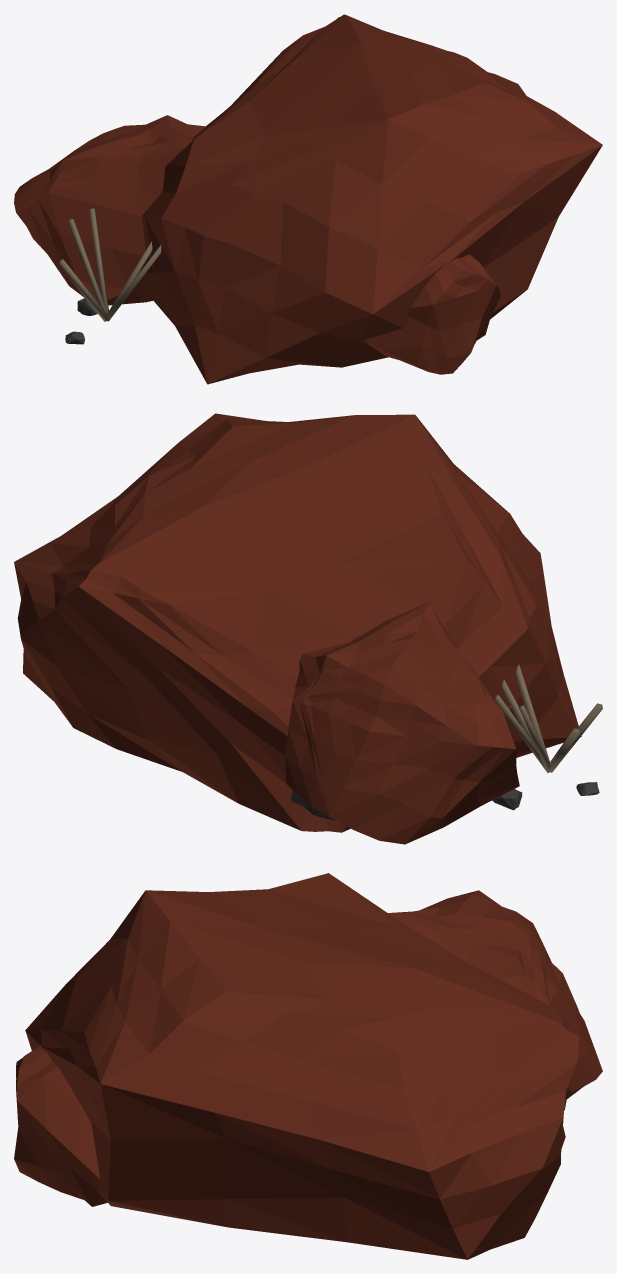
Rendered from cover_rock_8.glb.
3 views of the same model, one above another, from view 1: azimuth 30°, elevation 25°; view 2: azimuth 150°, elevation 25°; view 3: azimuth 270°, elevation 25° (orthographic). The views are drawn at different scales.
Parts seen in each view (by area): view 1: rock_0, rock_1, rock_3, weed_3, weed_4, weed_1, weed_2; view 2: rock_0, rock_1, weed_2; view 3: rock_0, rock_1, rock_3.
Part boxes in pixels (x1=…): rock_0: x1=141, y1=14, x2=602, y2=384; rock_1: x1=14, y1=115, x2=205, y2=305; rock_3: x1=364, y1=254, x2=500, y2=374; weed_3: x1=89, y1=208, x2=108, y2=313; weed_4: x1=68, y1=219, x2=106, y2=312; weed_1: x1=58, y1=259, x2=108, y2=321; weed_2: x1=107, y1=245, x2=161, y2=321; rock_0: x1=14, y1=413, x2=581, y2=832; rock_1: x1=285, y1=602, x2=519, y2=844; weed_2: x1=516, y1=664, x2=549, y2=762; rock_0: x1=25, y1=873, x2=579, y2=1259; rock_1: x1=388, y1=890, x2=602, y2=1100; rock_3: x1=14, y1=1045, x2=107, y2=1206.
Size of the model in its own units: 1.9 by 0.8803 by 1.59.
